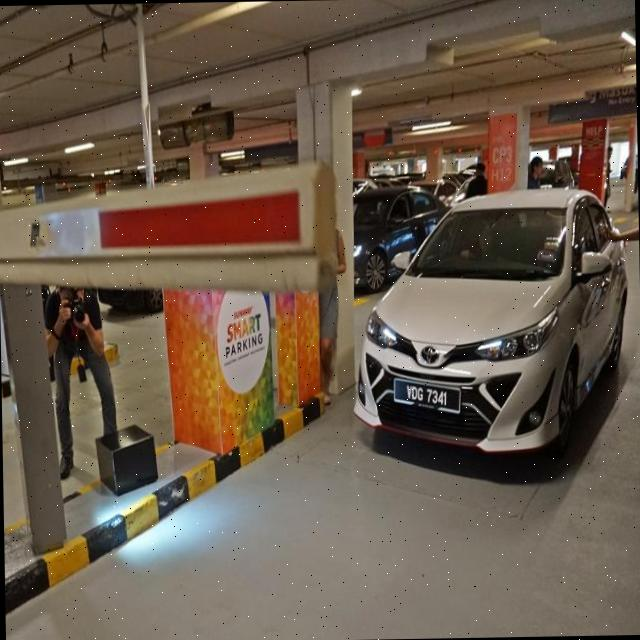License_Plate: (389, 375, 469, 419)
car: (351, 162, 635, 482)
